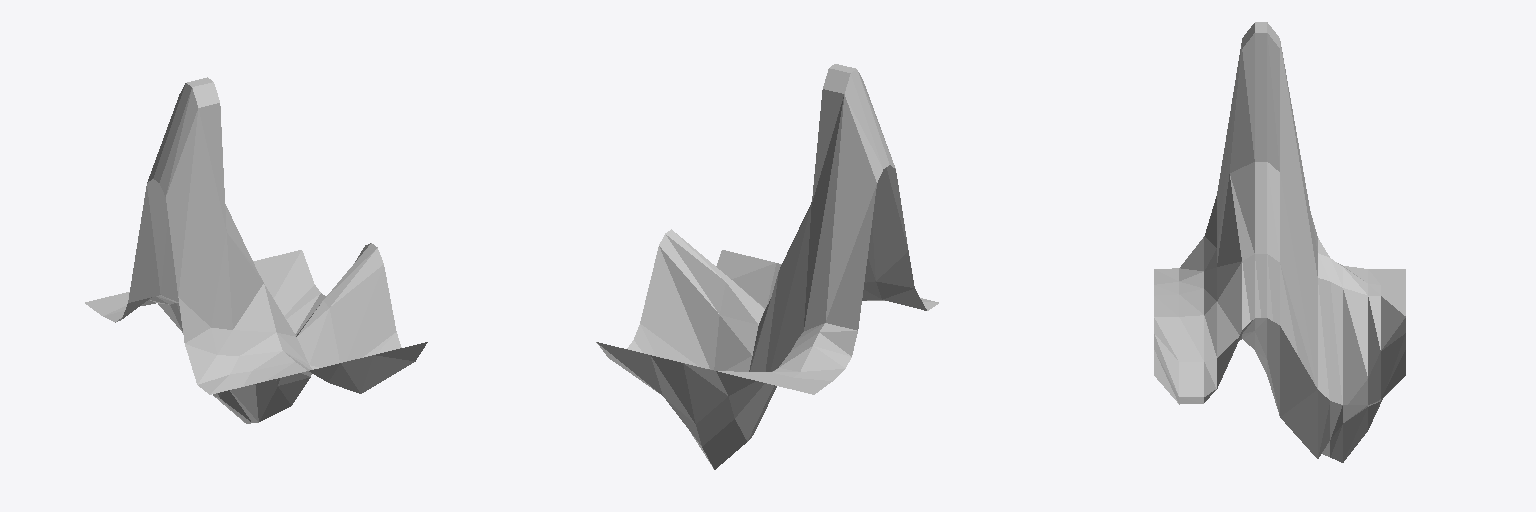
The model's file is ter1.obj.
3 views of the same model, side by side, from view 1: azimuth 30°, elevation 25°; view 2: azimuth 150°, elevation 25°; view 3: azimuth 270°, elevation 25° (orthographic).
Parts seen in each view (by area): view 1: ter1; view 2: ter1; view 3: ter1.
Part boxes in pixels (bbox=[...]): ter1: bbox=[85, 77, 427, 423]; ter1: bbox=[596, 64, 938, 469]; ter1: bbox=[1154, 22, 1405, 462].
Bounding box in the file's own units: 500 × 861 × 500.